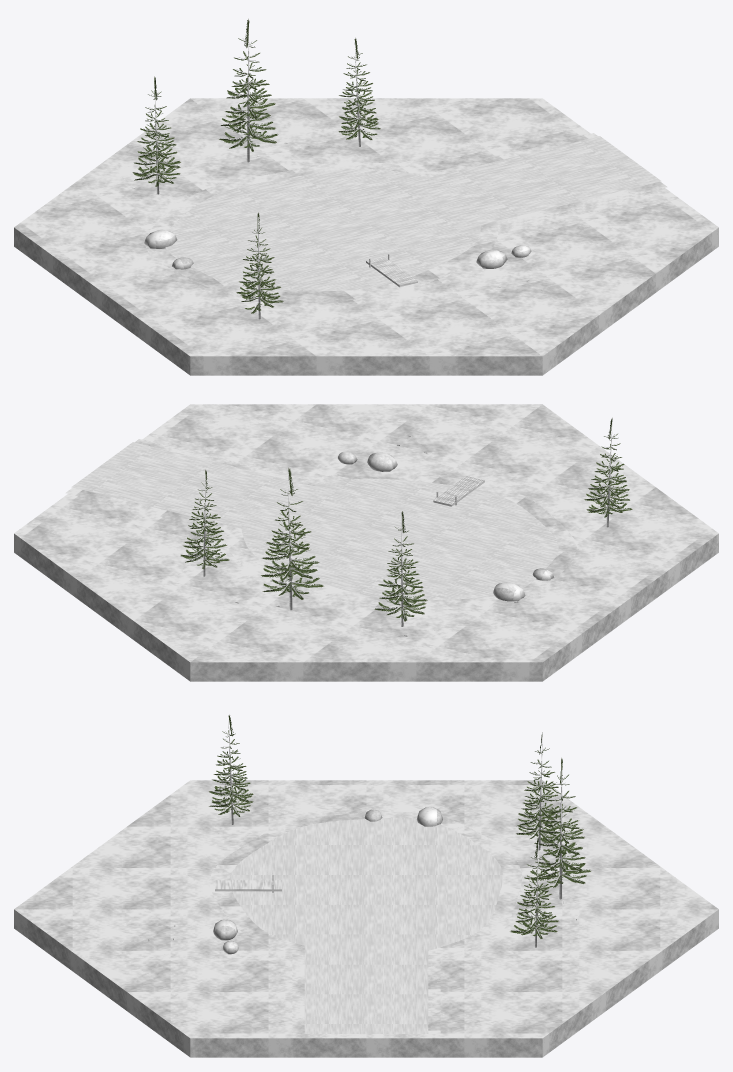
File: laguna.glb
The picture shows the model from 3 angles, top to bottom: view 1: azimuth 30°, elevation 25°; view 2: azimuth 150°, elevation 25°; view 3: azimuth 270°, elevation 25°; orthographic projection.
Parts seen in each view (by area): view 1: laguna.004; view 2: laguna.004; view 3: laguna.004.
Boxes of the visible parts, x1,y1,x2,y2 form: laguna.004: (14,19,718,375); laguna.004: (14,404,718,681); laguna.004: (14,715,718,1057).
Bounding box in the file's own units: 3.46 × 1.03 × 4.
Materials: 5 (5 with a texture image).
